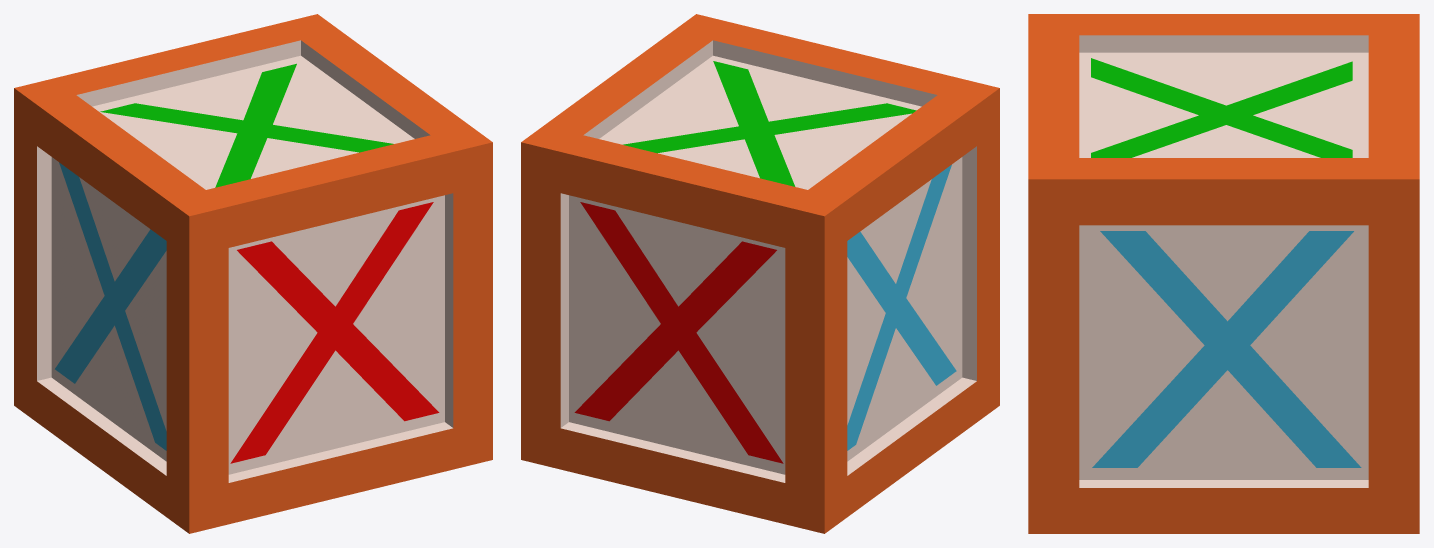
The model's file is Prop_KidsCube_X.fbx.
3 renders of one model, left to right at view 1: azimuth 30°, elevation 25°; view 2: azimuth 150°, elevation 25°; view 3: azimuth 270°, elevation 25°, orthographic. The views are drawn at different scales.
Visible parts, largest first — view 1: Prop_KidsCube_X; view 2: Prop_KidsCube_X; view 3: Prop_KidsCube_X.
Boxes of the visible parts, x1,y1,x2,y2 form: Prop_KidsCube_X: [14, 14, 492, 533]; Prop_KidsCube_X: [521, 14, 999, 533]; Prop_KidsCube_X: [1028, 14, 1419, 533].
Size of the model in its own units: 20.93 by 20.93 by 20.93.
